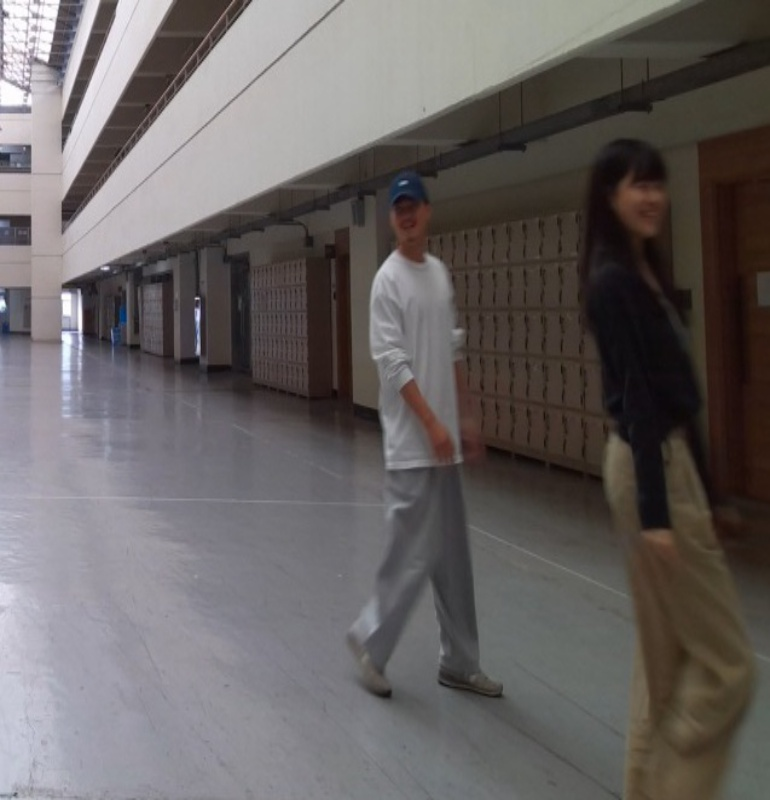person: (340, 171, 505, 700)
